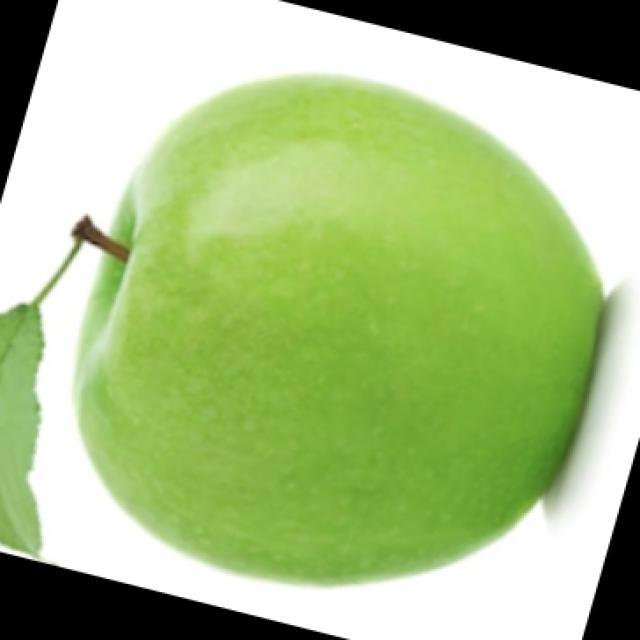Fresh Apple: (86, 81, 613, 640)
